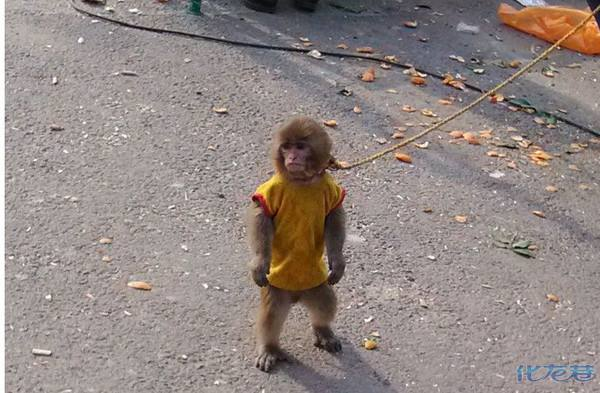monkey: (229, 102, 367, 378)
